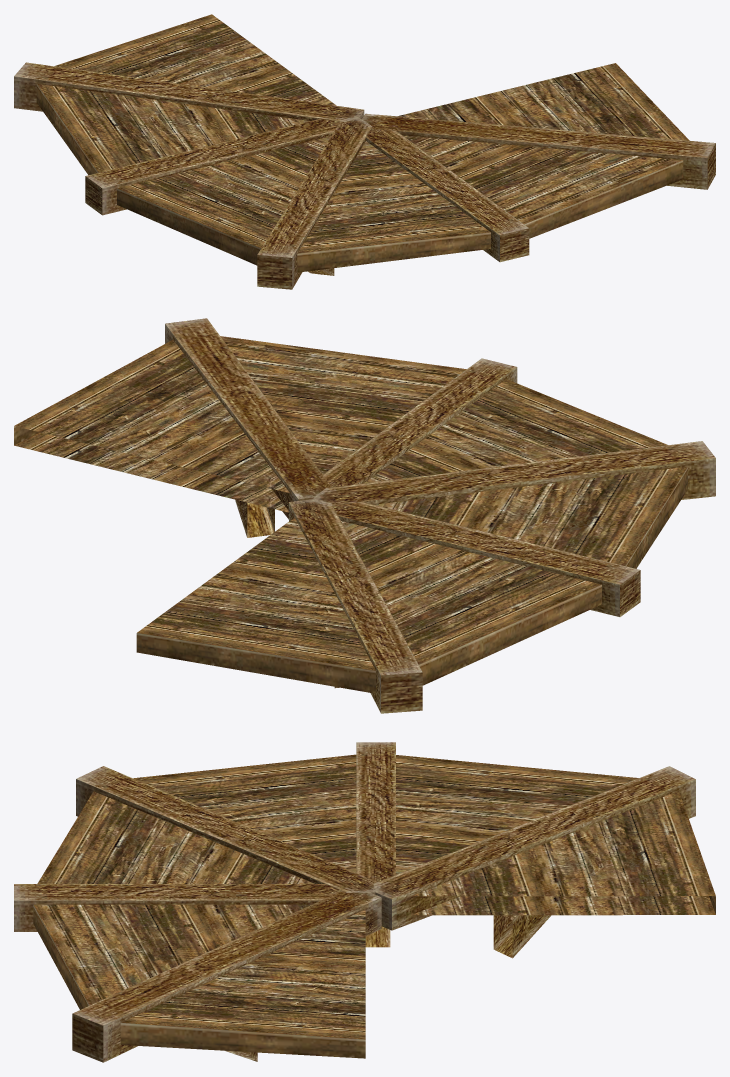
3 views of the same model, one above another, from view 1: azimuth 30°, elevation 25°; view 2: azimuth 150°, elevation 25°; view 3: azimuth 270°, elevation 25° (orthographic). The views are drawn at different scales.
Parts seen in each view (by area): view 1: cc89-col; view 2: cc89-col; view 3: cc89-col.
Part boxes in pixels (left/top/right/bottom): cc89-col: left=14, top=14, right=715, bottom=289; cc89-col: left=14, top=318, right=715, bottom=713; cc89-col: left=14, top=742, right=715, bottom=1062.
Bounding box in the file's own units: 9.11 × 1.63 × 9.21.
2 materials, 2 textured.
